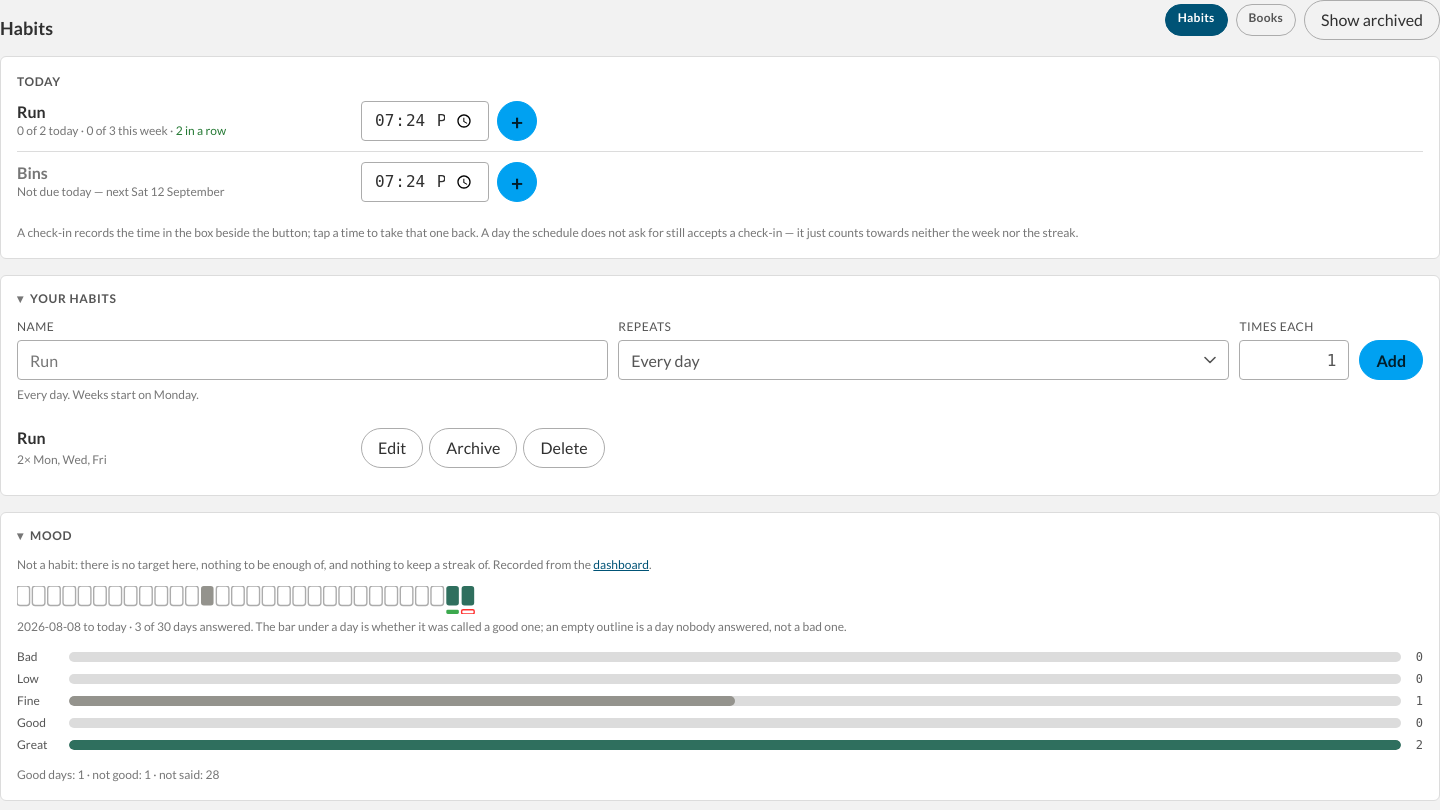
Test: HabitsPage › records the time of a check-in and shows it
Click the button named "Check in Run" at (517, 121), box x1=497 y1=101 x2=537 y2=141
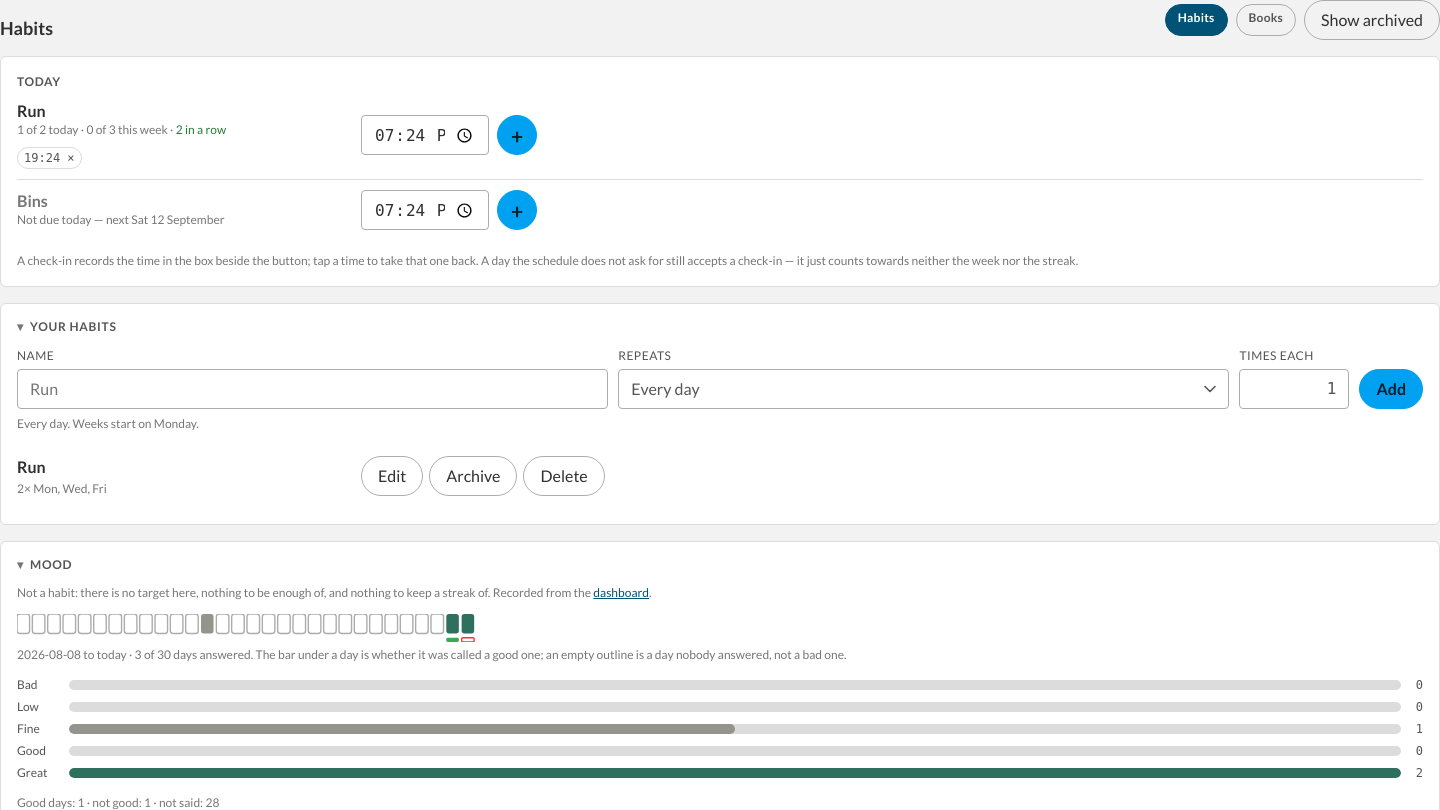
Expected: the text "1 of 2 today · 0 of 3 this week · 2 in a row" is shown, x1=17 y1=122 x2=226 y2=137
Expected: the button "19:24 ×" is shown, x1=17 y1=147 x2=82 y2=169
